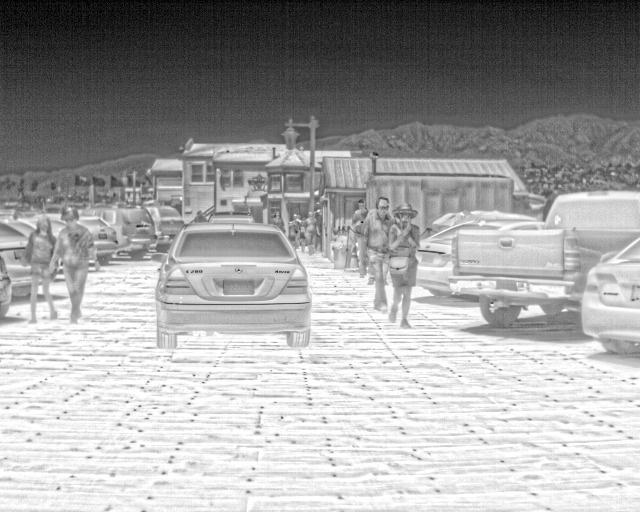bicycle: (446, 187, 639, 329), (154, 221, 314, 351), (416, 216, 545, 300), (580, 234, 636, 359), (88, 205, 156, 261), (0, 220, 44, 306), (142, 202, 188, 249), (77, 213, 119, 263), (1, 216, 37, 236), (207, 209, 254, 223)
empty: (46, 208, 97, 326), (385, 200, 421, 327), (27, 216, 59, 323), (365, 197, 394, 314), (304, 210, 322, 253), (297, 224, 309, 253)
